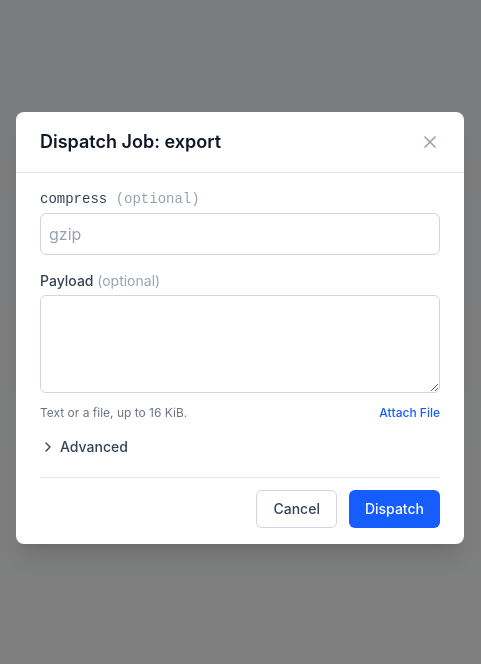
Test: DispatchJobModal advanced options › say so when the token was used before
Click the button "Advanced" at (84, 447), box [40,425,128,469]
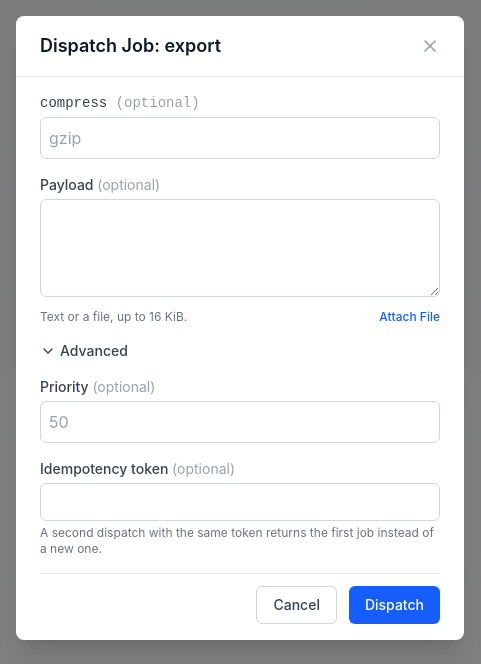
Type "nightly-2026-10-02" into the field labelled "Idempotency token (optional)" at (240, 502), box [40,483,440,521]
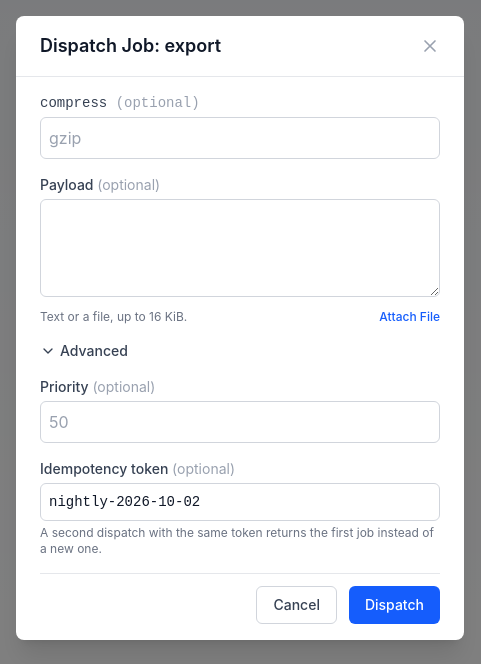
Click the button "Dispatch" at (394, 605), box [349,586,440,624]
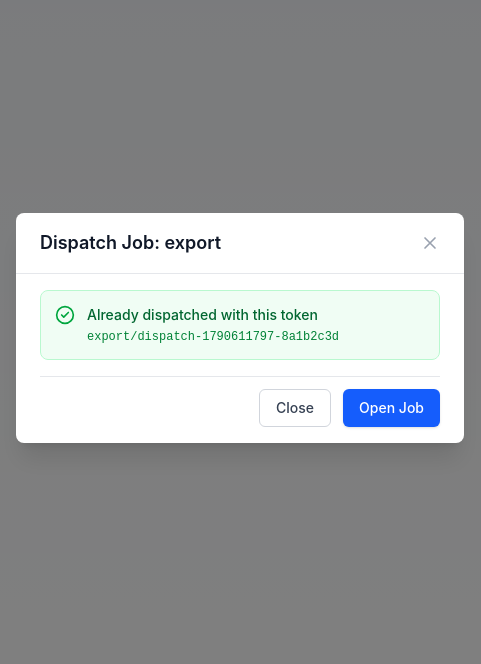
expect the text "Already dispatched with this token" is shown: met, box [87,305,339,325]
expect the text "export/dispatch-1790611797-8a1b2c3d" is shown: met, box [87,329,339,345]
expect the link "Open Job" is shown: met, box [343,389,440,427]
